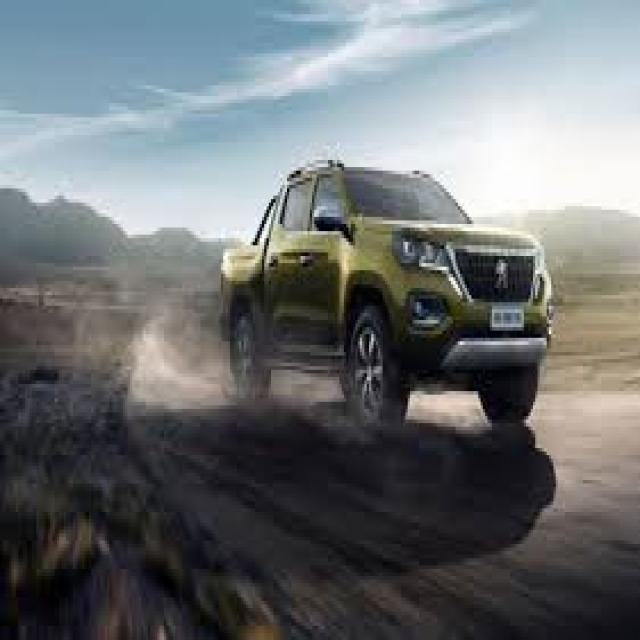Pickup Trucks: (221, 167, 553, 445)
